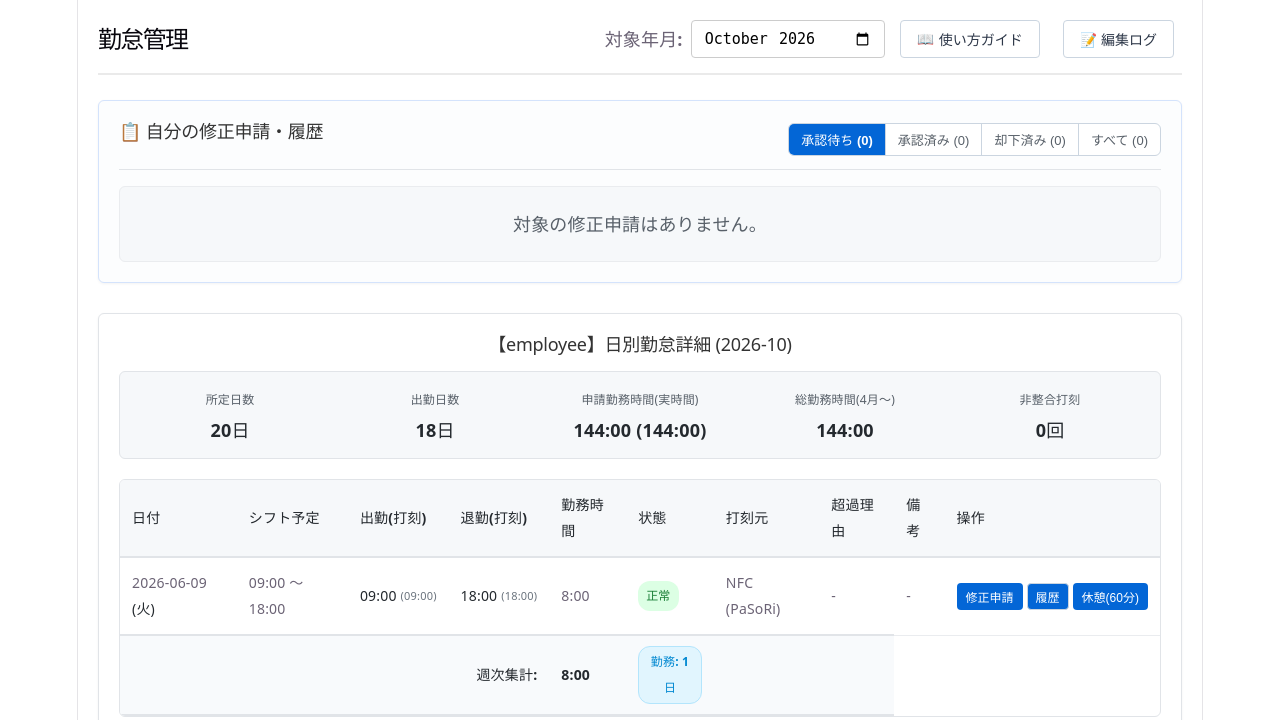
AttendancePage - History › 一般従業員でログインした場合も、自身の履歴ボタンが表示され、クリックすると履歴が表示されること
The width and height of the screenshot is (1280, 720).
Expected: the heading "【employee】日別勤怠詳細 (2026-10)" is shown, [488, 332, 792, 356]
# 履歴ボタンをクリック
Click the button "履歴".
click(1048, 596)  # box [1027, 583, 1069, 610]
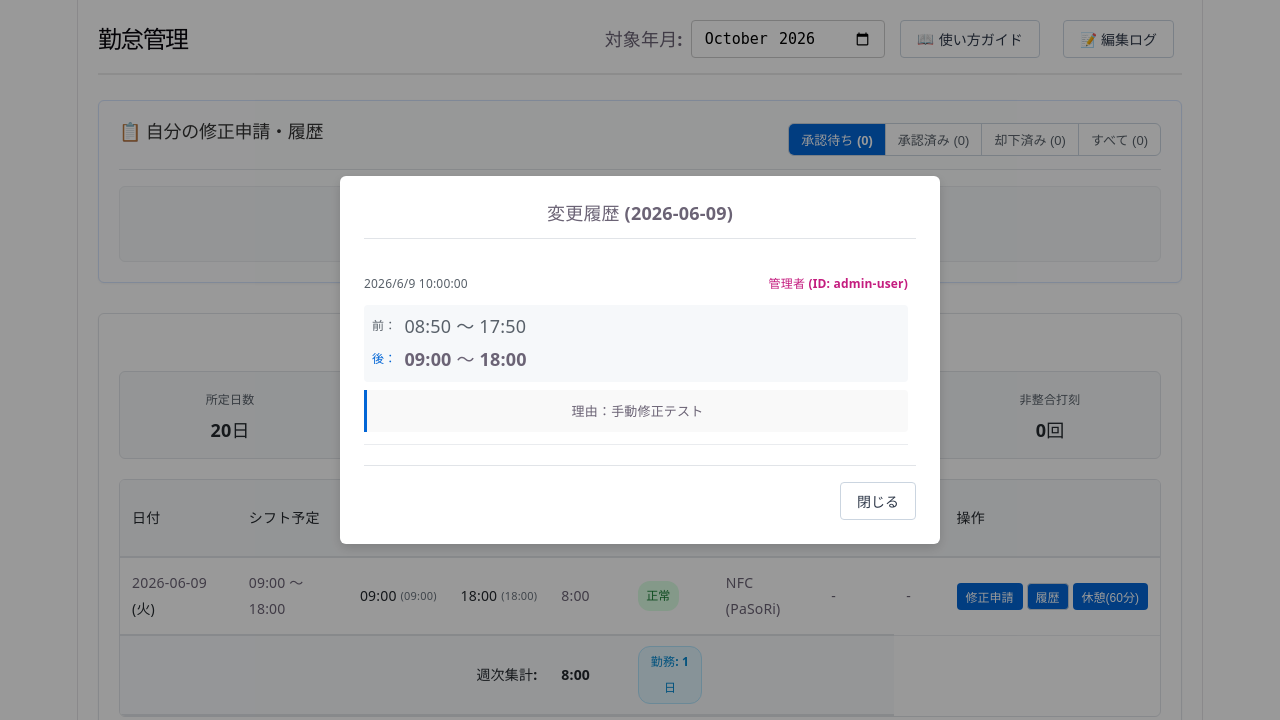
Expected: the heading "変更履歴 (2026-06-09)" is shown, [364, 200, 916, 239]
Expected: the text "管理者 (ID: admin-user)" is shown, [769, 271, 908, 298]
Expected: the text "手動修正テスト" is shown, [611, 402, 703, 420]
